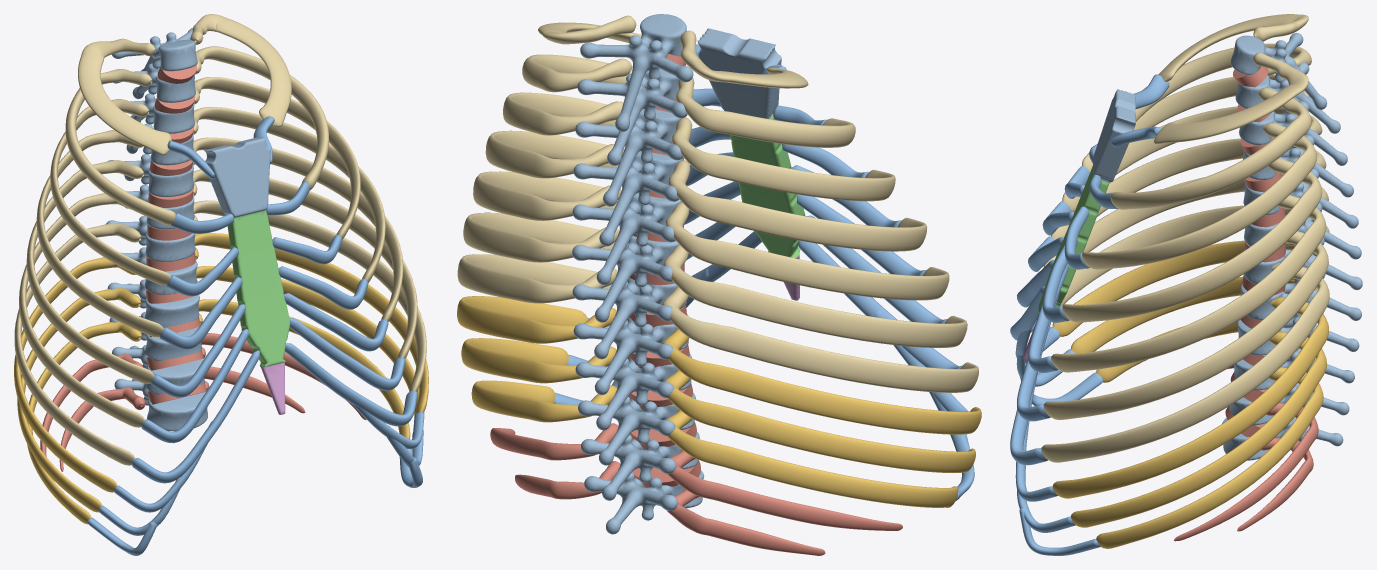
The model's file is esqueleto-torax.glb.
3 views of the same model, side by side, from view 1: azimuth 30°, elevation 25°; view 2: azimuth 150°, elevation 25°; view 3: azimuth 270°, elevation 25° (orthographic). The views are drawn at different scales.
Parts seen in each view (by area): view 1: sternum_body, sternum_manubrium, rib_R_01, rib_R_05, rib_R_07, rib_L_07, rib_R_06, rib_L_04, rib_R_04, rib_L_01, rib_R_02, rib_L_08 (+47 smaller); view 2: rib_R_07, rib_R_06, rib_R_08, rib_R_05, rib_R_09, rib_R_04, rib_R_10, rib_R_03, rib_L_07, rib_L_06, rib_L_05, rib_L_08 (+32 smaller); view 3: rib_L_06, rib_L_07, rib_L_05, rib_L_08, rib_L_04, rib_L_09, rib_L_03, rib_L_10, rib_L_02, rib_R_08, rib_L_01, rib_R_05 (+44 smaller).
Part boxes in pixels (left/top/right/bottom): sternum_body: left=227, top=210, right=289, bottom=366; sternum_manubrium: left=204, top=137, right=270, bottom=217; rib_R_01: left=78, top=38, right=171, bottom=155; rib_R_05: left=26, top=160, right=154, bottom=383; rib_R_07: left=14, top=223, right=141, bottom=465; rib_L_07: left=193, top=200, right=426, bottom=391; rib_R_06: left=19, top=193, right=144, bottom=427; rib_L_04: left=193, top=107, right=385, bottom=282; rib_R_04: left=36, top=130, right=163, bottom=337; rib_L_01: left=190, top=14, right=291, bottom=126; rib_R_02: left=65, top=69, right=175, bottom=225; rib_L_08: left=194, top=233, right=428, bottom=413; rib_R_07: left=662, top=287, right=978, bottom=392; rib_R_06: left=663, top=245, right=967, bottom=347; rib_R_08: left=662, top=328, right=981, bottom=434; rib_R_05: left=665, top=202, right=949, bottom=300; rib_R_09: left=664, top=369, right=975, bottom=472; rib_R_04: left=668, top=160, right=927, bottom=251; rib_R_10: left=666, top=410, right=958, bottom=507; rib_R_03: left=672, top=117, right=895, bottom=201; rib_L_07: left=457, top=254, right=617, bottom=303; rib_L_06: left=463, top=212, right=619, bottom=262; rib_L_05: left=473, top=171, right=621, bottom=220; rib_L_08: left=457, top=296, right=616, bottom=343; rib_L_06: left=1043, top=231, right=1328, bottom=419; rib_L_07: left=1041, top=262, right=1329, bottom=462; rib_L_05: left=1051, top=195, right=1326, bottom=372; rib_L_08: left=1052, top=297, right=1328, bottom=498; rib_L_04: left=1062, top=158, right=1322, bottom=322; rib_L_09: left=1071, top=331, right=1326, bottom=527; rib_L_03: left=1082, top=122, right=1316, bottom=269; rib_L_10: left=1096, top=367, right=1323, bottom=548; rib_L_02: left=1110, top=87, right=1311, bottom=209; rib_R_08: left=1052, top=240, right=1316, bottom=336; rib_L_01: left=1154, top=52, right=1308, bottom=144; rib_R_05: left=1051, top=138, right=1326, bottom=239.
Bounding box in the file's own units: 0.2972 × 0.3075 × 0.2223.
